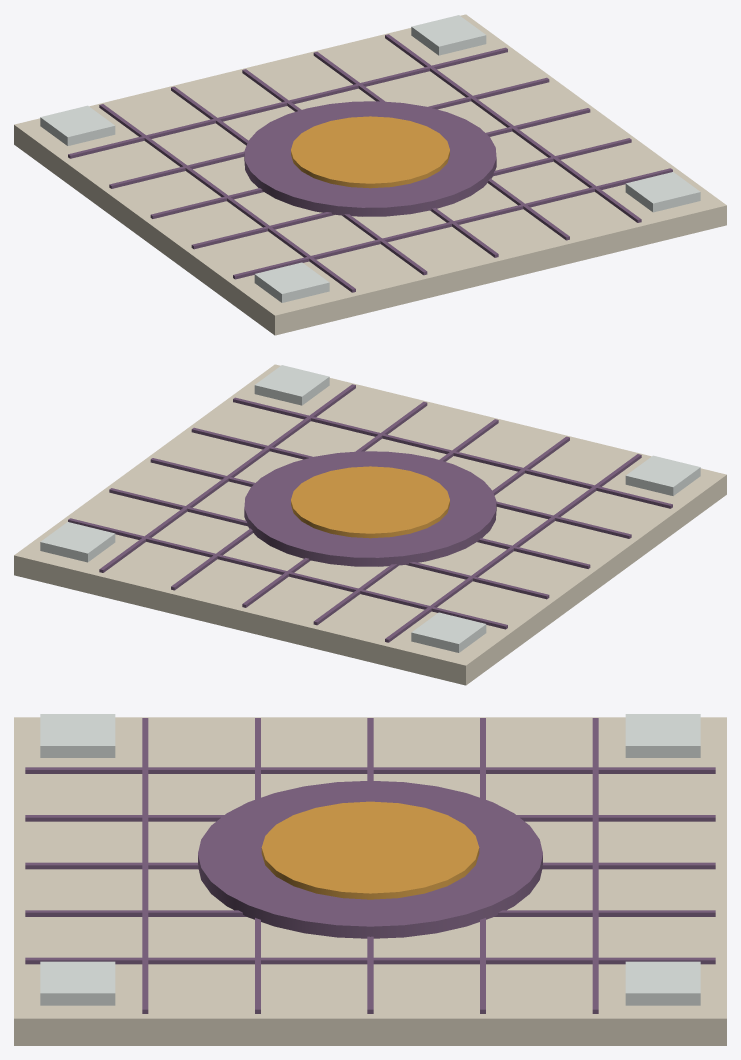
File: civic_plaza.glb
The picture shows the model from 3 angles, top to bottom: view 1: azimuth 30°, elevation 25°; view 2: azimuth 150°, elevation 25°; view 3: azimuth 270°, elevation 25°; orthographic projection. The views are drawn at different scales.
Parts seen in each view (by area): view 1: civic_plaza mist, civic_plaza patina, civic_plaza plum, civic_plaza ochre, civic_plaza plaster; view 2: civic_plaza mist, civic_plaza patina, civic_plaza plum, civic_plaza ochre, civic_plaza plaster; view 3: civic_plaza mist, civic_plaza plum, civic_plaza patina, civic_plaza ochre, civic_plaza plaster.
Boxes of the visible parts, x1=… form: civic_plaza mist: x1=14, y1=14, x2=726, y2=335; civic_plaza patina: x1=68, y1=34, x2=672, y2=292; civic_plaza plum: x1=244, y1=101, x2=496, y2=216; civic_plaza ochre: x1=291, y1=116, x2=449, y2=188; civic_plaza plaster: x1=40, y1=15, x2=700, y2=302; civic_plaza mist: x1=14, y1=364, x2=726, y2=685; civic_plaza patina: x1=68, y1=384, x2=672, y2=642; civic_plaza plum: x1=244, y1=451, x2=496, y2=566; civic_plaza ochre: x1=291, y1=466, x2=449, y2=538; civic_plaza plaster: x1=40, y1=365, x2=700, y2=652; civic_plaza mist: x1=14, y1=717, x2=726, y2=1045; civic_plaza plum: x1=198, y1=780, x2=542, y2=938; civic_plaza patina: x1=25, y1=718, x2=715, y2=1013; civic_plaza ochre: x1=261, y1=801, x2=479, y2=899; civic_plaza plaster: x1=40, y1=714, x2=700, y2=1005.
Size of the model in its own units: 0.95 by 0.07 by 0.95.
